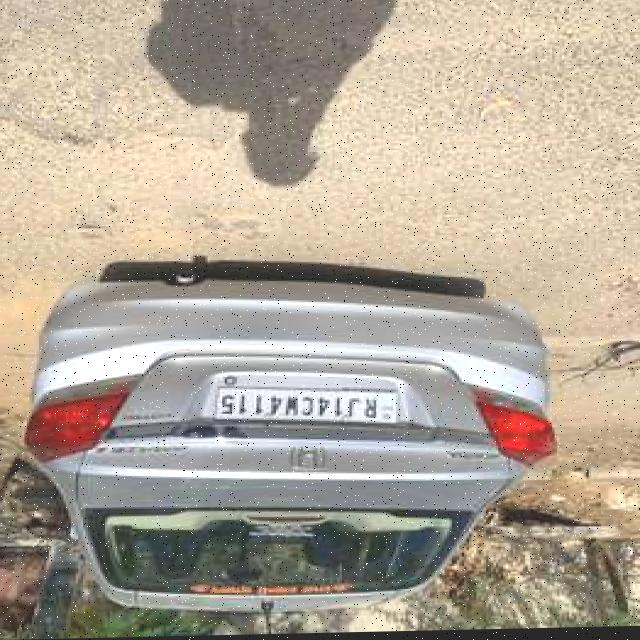plate: (215, 382, 399, 431)
